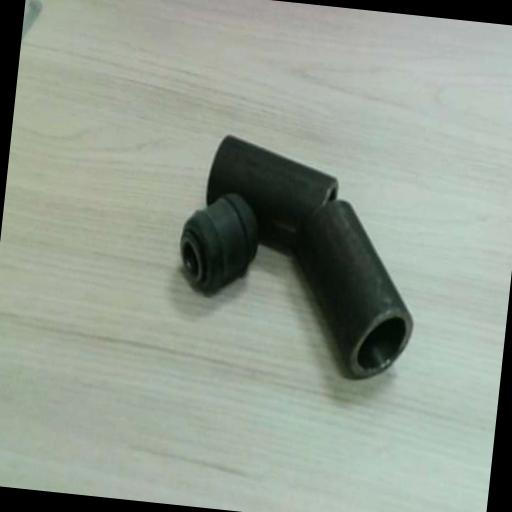peca: (180, 136, 411, 377)
